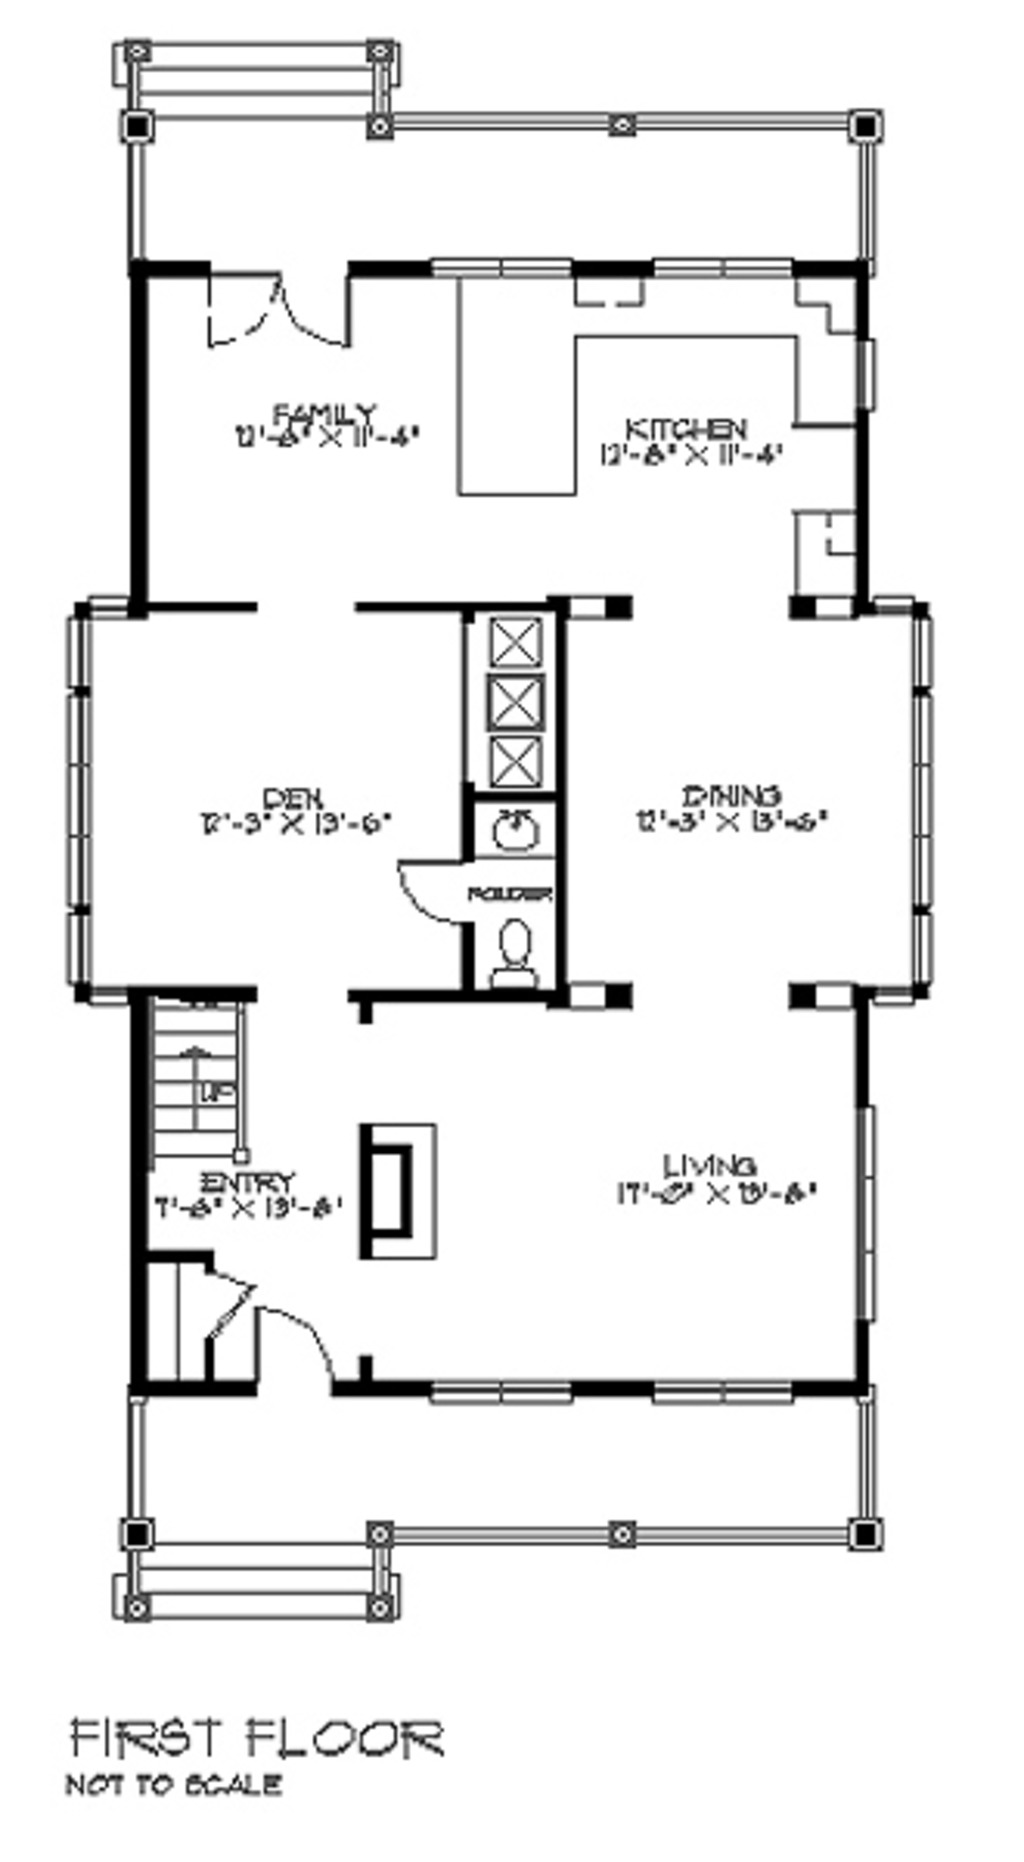door: (193, 253, 380, 368), (243, 1302, 353, 1394), (179, 1248, 267, 1354), (402, 851, 482, 935)
large_sink: (473, 885, 554, 985)
small_sink: (462, 788, 564, 859)
stairs: (144, 988, 242, 1185)
window: (44, 603, 107, 998), (902, 591, 958, 991), (644, 1356, 805, 1422), (644, 240, 800, 285), (422, 242, 576, 285), (416, 1368, 586, 1399)
